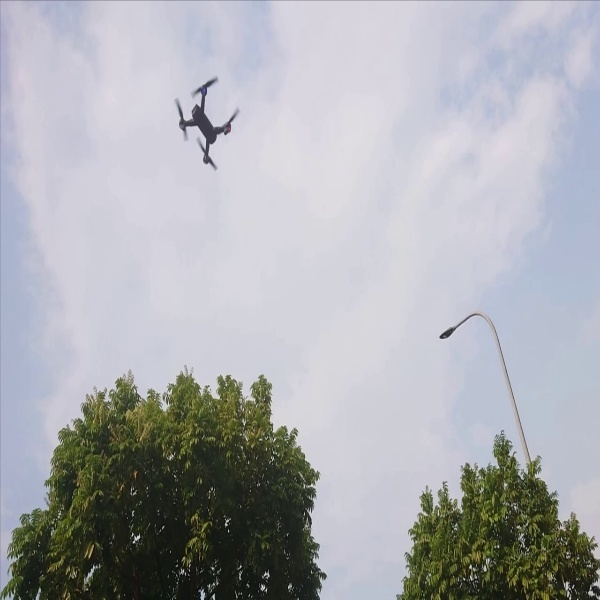drone: (165, 65, 254, 180)
